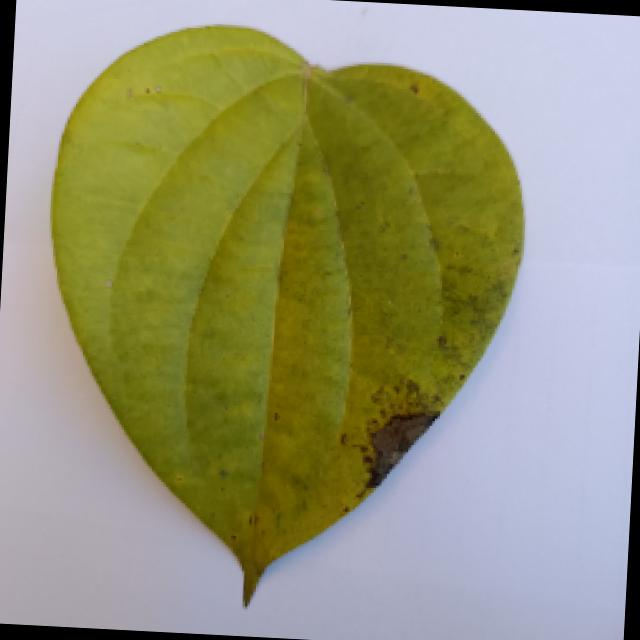slow-decline: (0, 22, 619, 635)
